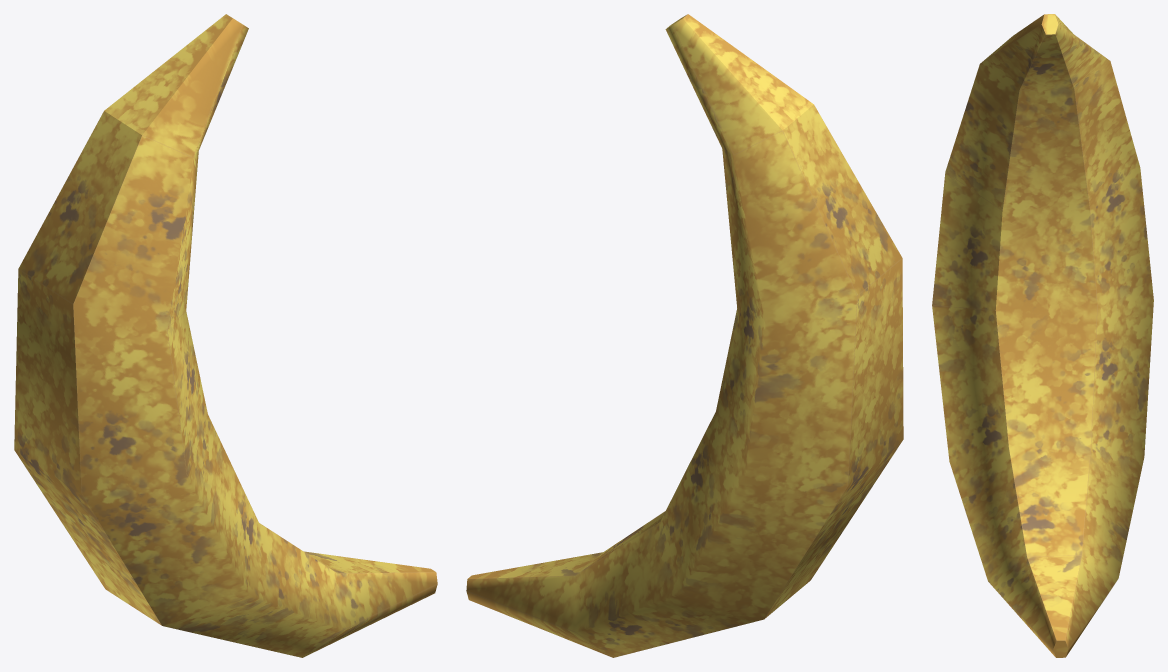
File: moon 1.fbx
The picture shows the model from 3 angles, left to right: view 1: azimuth 30°, elevation 25°; view 2: azimuth 150°, elevation 25°; view 3: azimuth 270°, elevation 25°; orthographic projection. The views are drawn at different scales.
Visible parts, largest first — view 1: pPlane1; view 2: pPlane1; view 3: pPlane1.
Part boxes in pixels (box(x1,y1,x2,y2)): pPlane1: box(14, 14, 437, 657); pPlane1: box(466, 14, 903, 657); pPlane1: box(932, 14, 1153, 657).
Bounding box in the file's own units: 0.031 × 0.0473 × 0.0168.
1 material, 1 textured.
